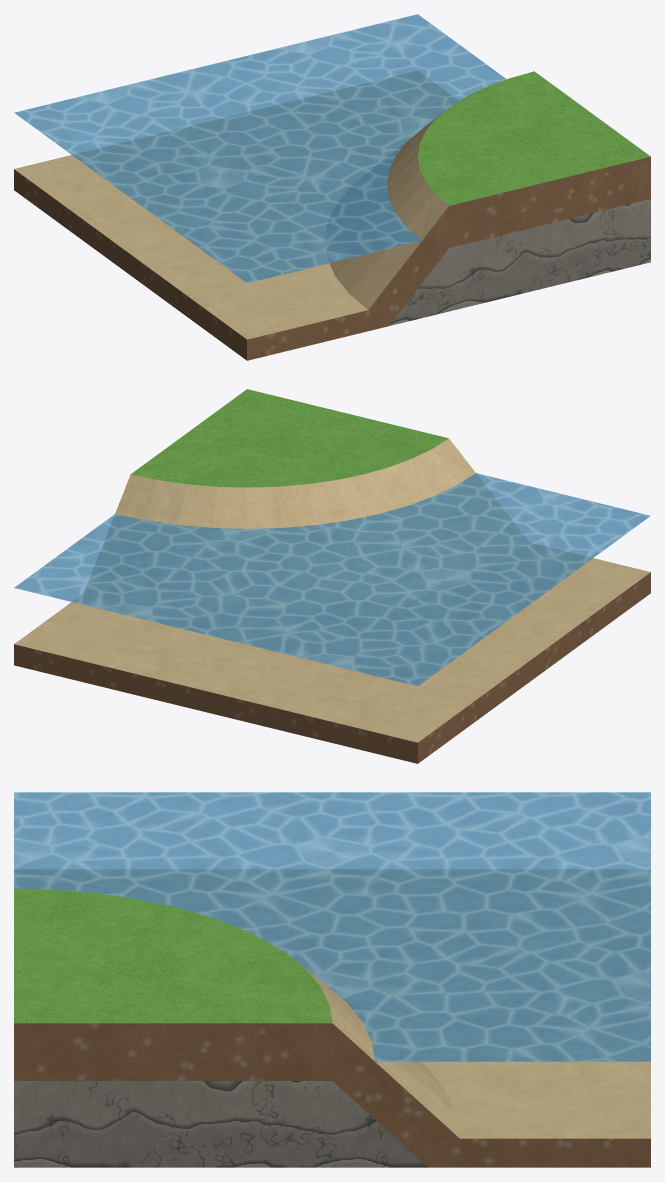
Rendered from Water_InnerCorner_L.fbx.
3 renders of one model, top to bottom at view 1: azimuth 30°, elevation 25°; view 2: azimuth 150°, elevation 25°; view 3: azimuth 270°, elevation 25°, orthographic. The views are drawn at different scales.
Parts seen in each view (by area): view 1: Water_InnerCorner_L, Water_InnerCorner_L_Water; view 2: Water_InnerCorner_L, Water_InnerCorner_L_Water; view 3: Water_InnerCorner_L, Water_InnerCorner_L_Water.
Part boxes in pixels (x1,y1,x2,y2): Water_InnerCorner_L: [14, 71, 650, 360]; Water_InnerCorner_L_Water: [14, 14, 506, 283]; Water_InnerCorner_L: [14, 389, 650, 763]; Water_InnerCorner_L_Water: [14, 473, 650, 686]; Water_InnerCorner_L: [14, 870, 650, 1167]; Water_InnerCorner_L_Water: [14, 792, 650, 1061].
Size of the model in its own units: 3 by 0.75 by 3.
5 materials, 5 textured.
